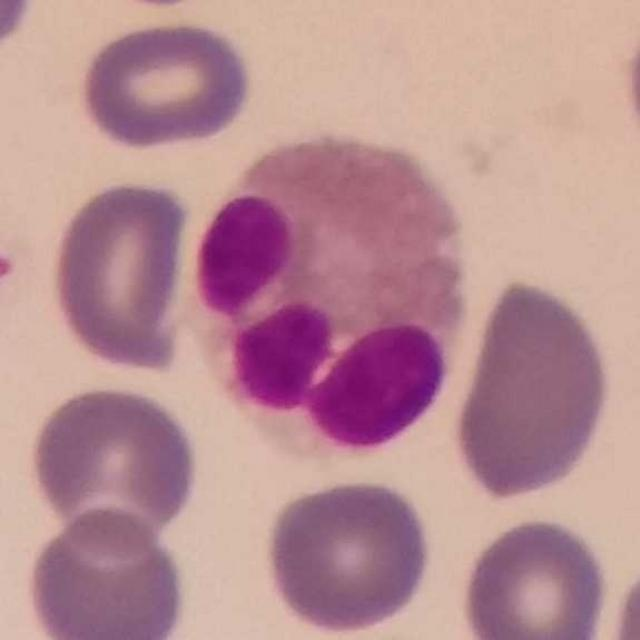Eosinophil: (186, 101, 486, 462)
Platelets: (0, 238, 19, 304)
RBC: (448, 272, 616, 508), (46, 175, 196, 377), (25, 381, 202, 550), (262, 474, 436, 637), (75, 14, 257, 154), (21, 505, 192, 639), (456, 513, 614, 639), (602, 550, 640, 640), (619, 20, 640, 155), (0, 0, 42, 64)
